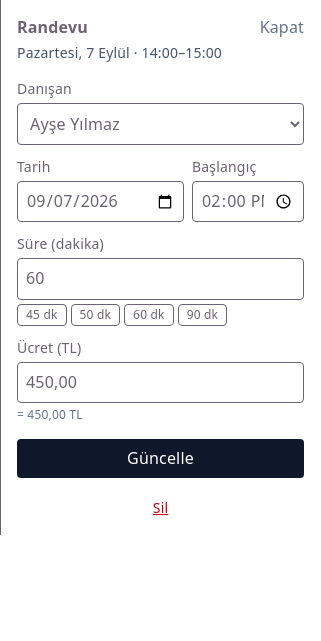
it: RandevuPaneli › I2: not YOKSA uyari cikmaz, "not yok" yazar
The image size is (321, 641).
Click the button "Sil". click: (160,508)
box: [17, 498, 304, 518]
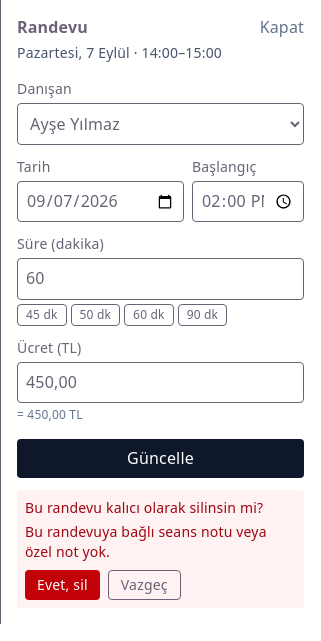
Expected: the text "Bu randevuya bağlı seans notu veya özel not yok." is shown, [25, 522, 296, 562]
